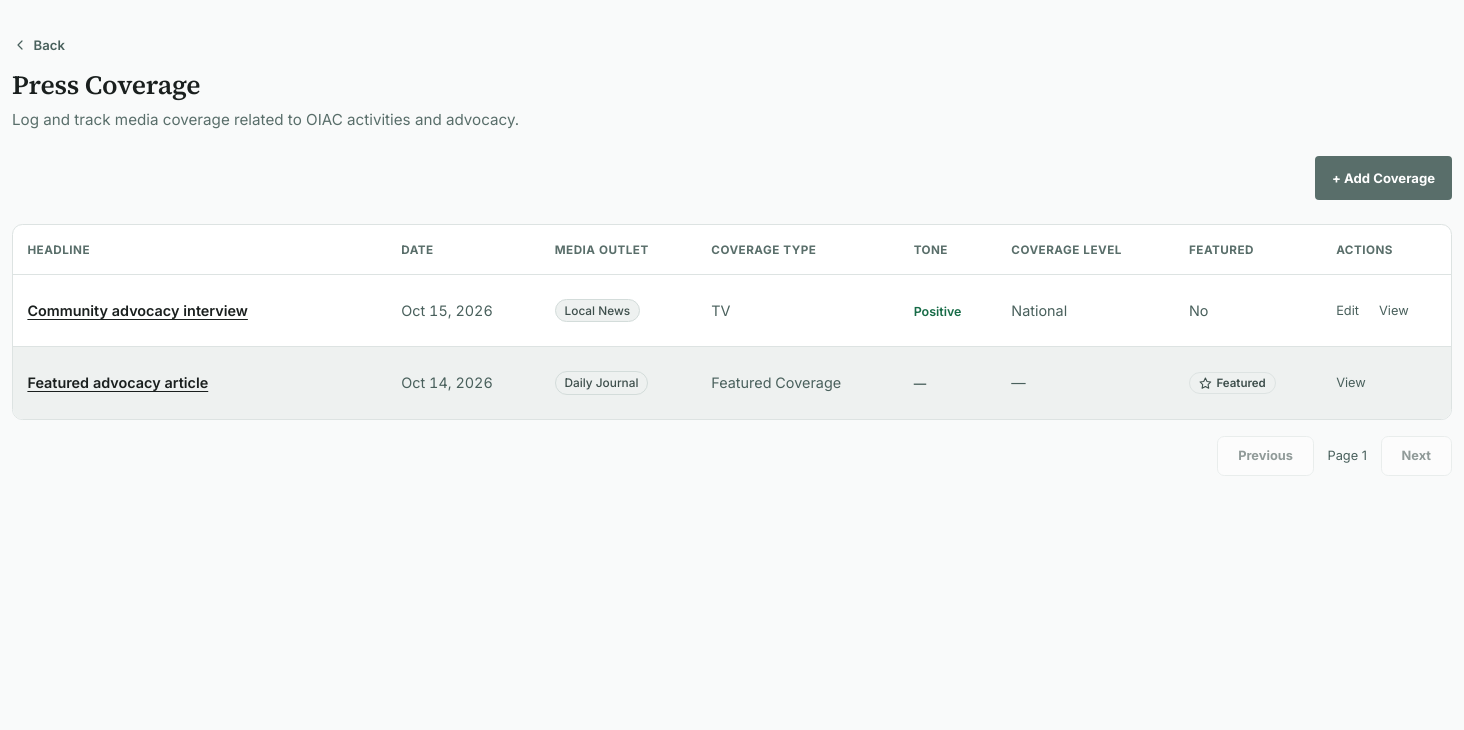
creates valid coverage and refreshes the server listing
Click the button "+ Add Coverage". click: (1384, 178)
box: [1315,156,1452,200]
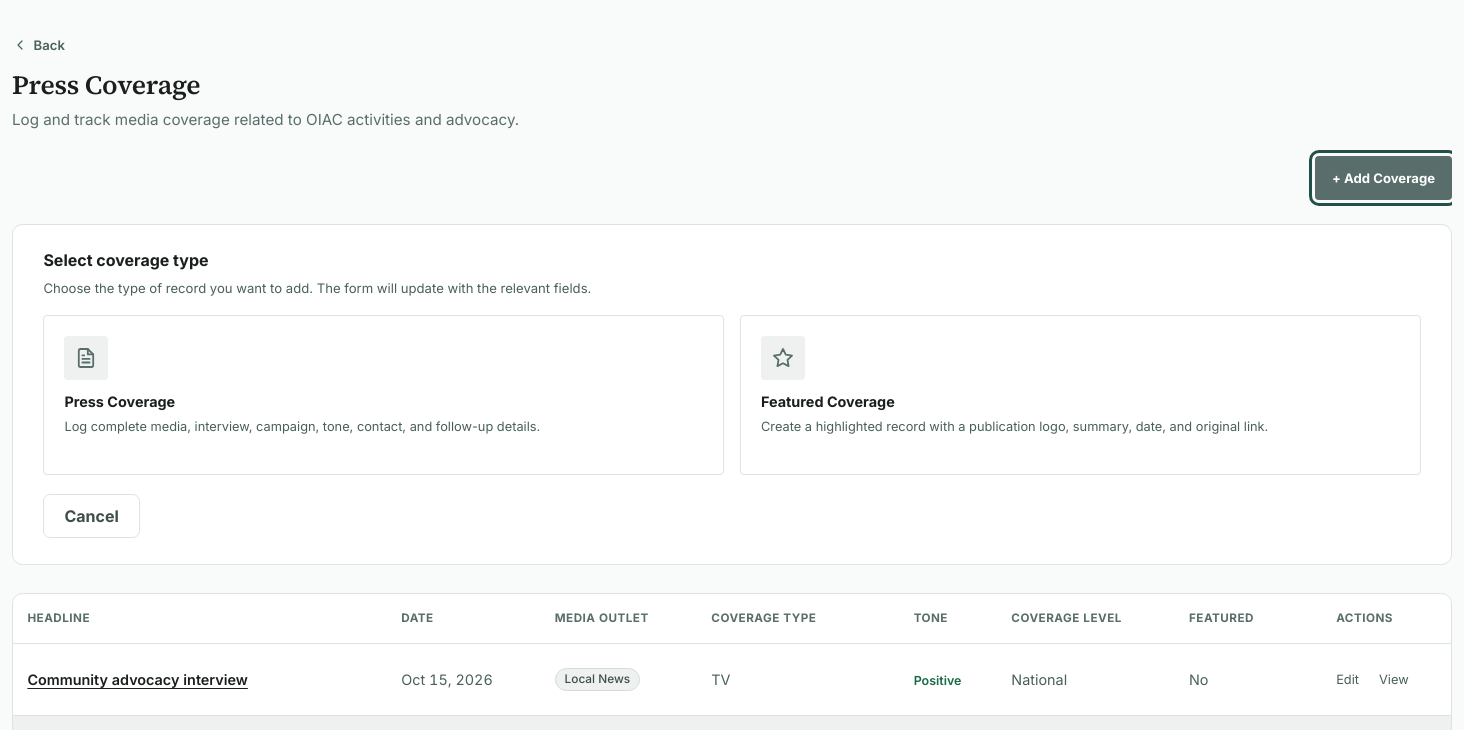
Click the button "Press Coverage Log complete media". click: (86, 358)
box: [43,315,724,475]
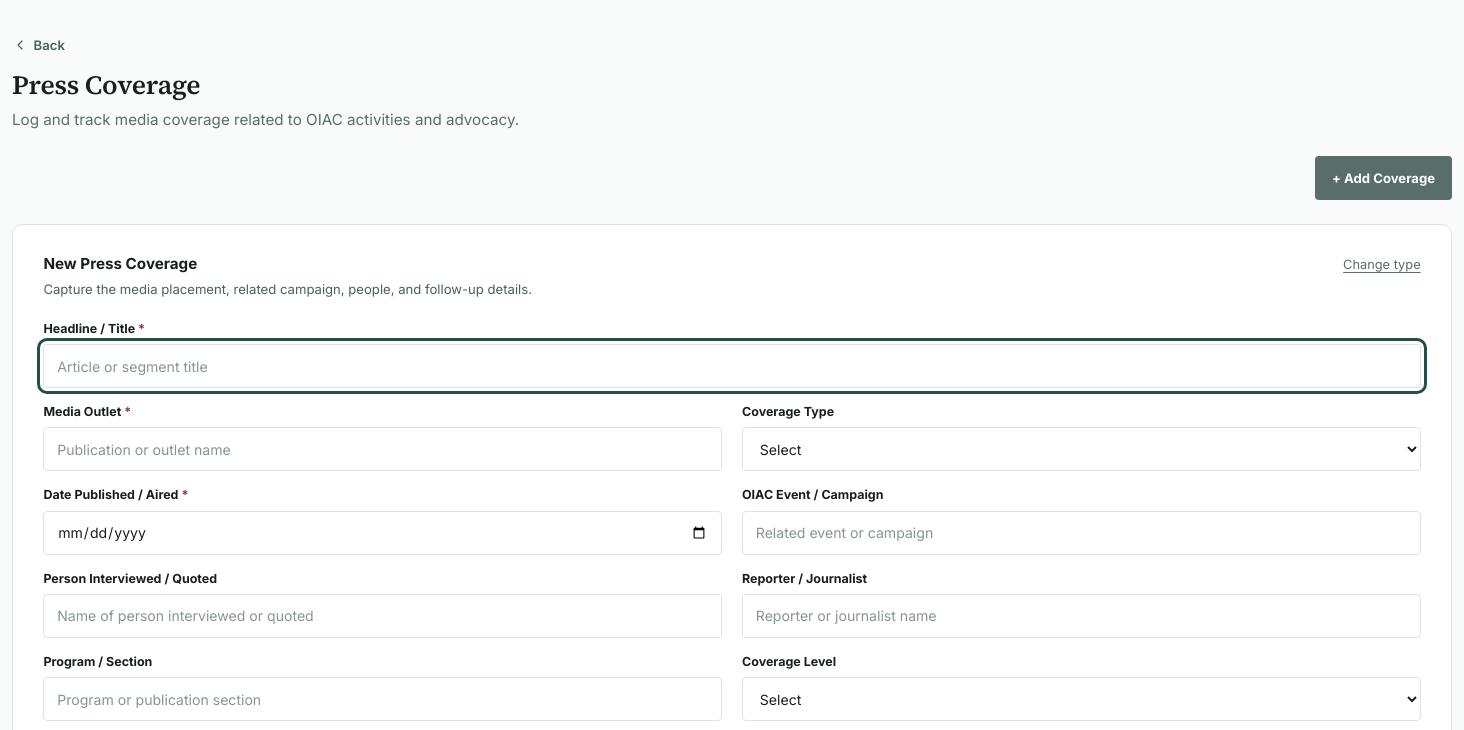
Type "New interview" into the field labelled "Headline / Title". click: (732, 366)
box: [43,344,1421,388]
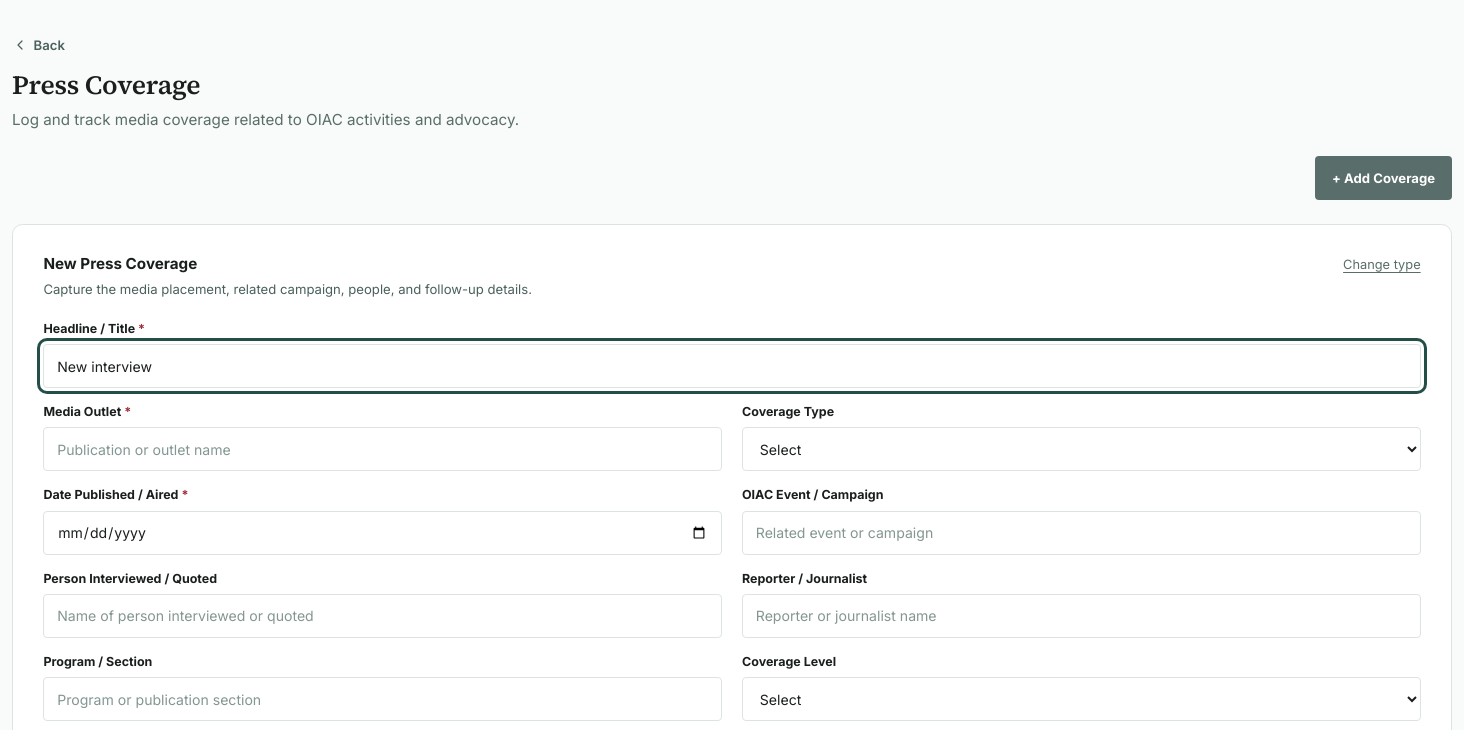
Type "Public Radio" into the field labelled "Media Outlet". click: (383, 449)
box: [43,427,722,471]
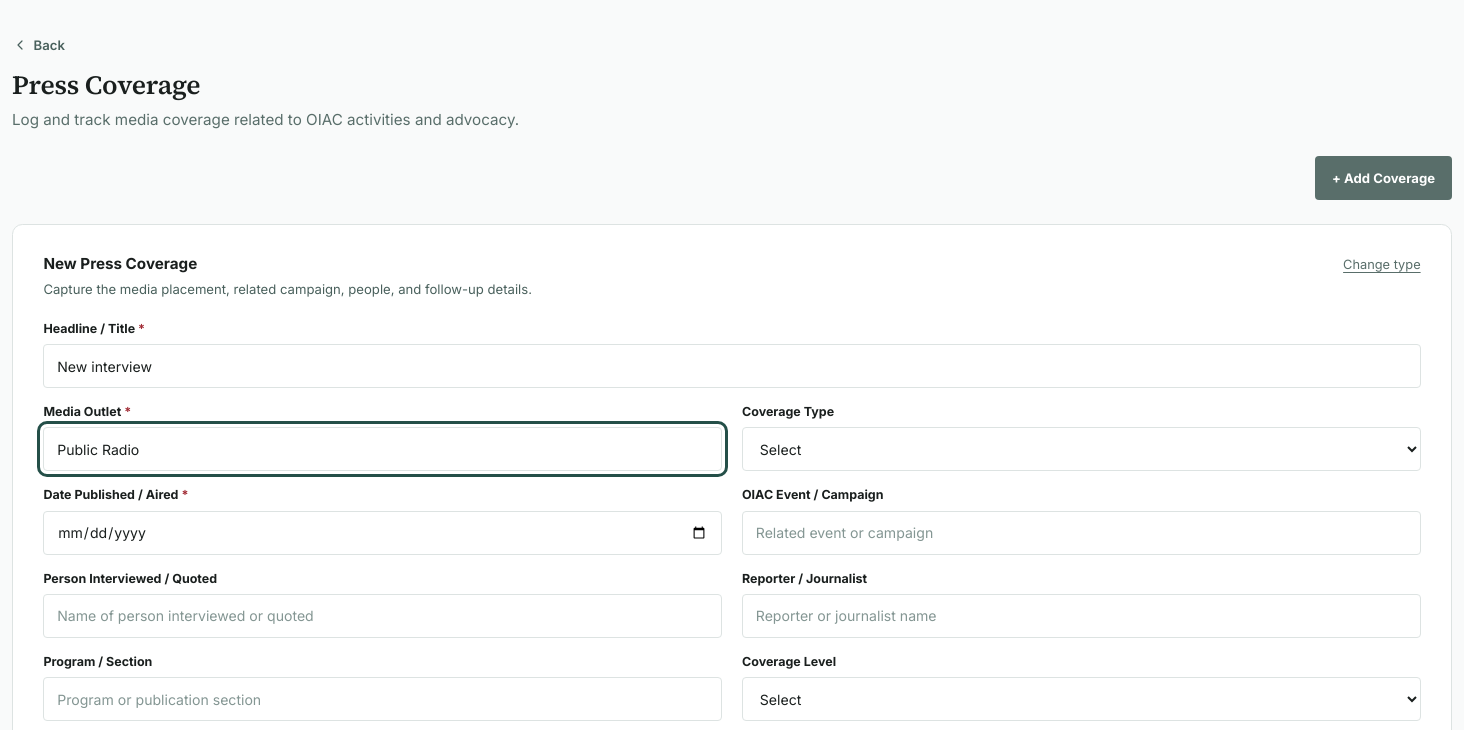
Type "2026-10-16" into the date field labelled "Date Published / Aired". click: (383, 533)
box: [43,511,722,555]
(page scrolled)
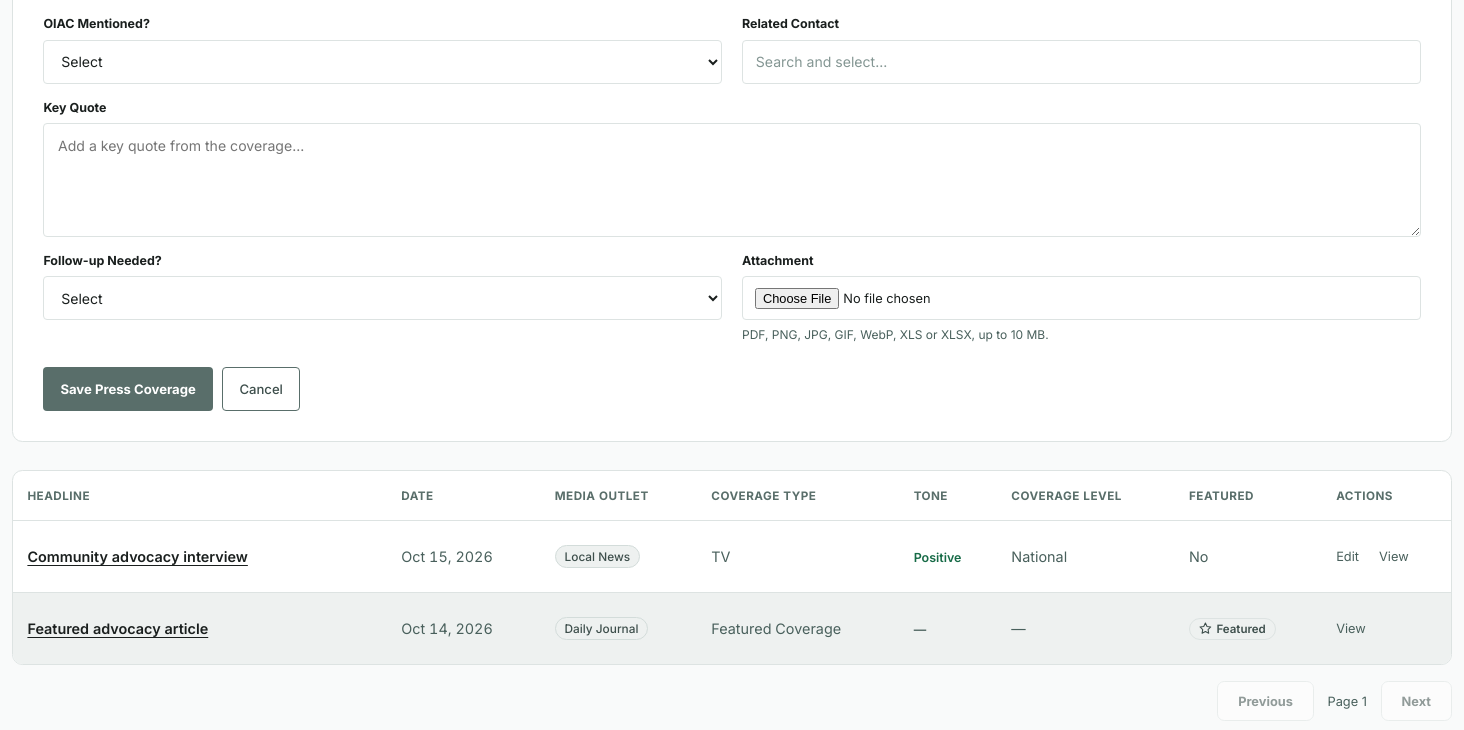
Click the button "Save Press Coverage". click: (128, 389)
box: [43,367,213,411]
(page scrolled)
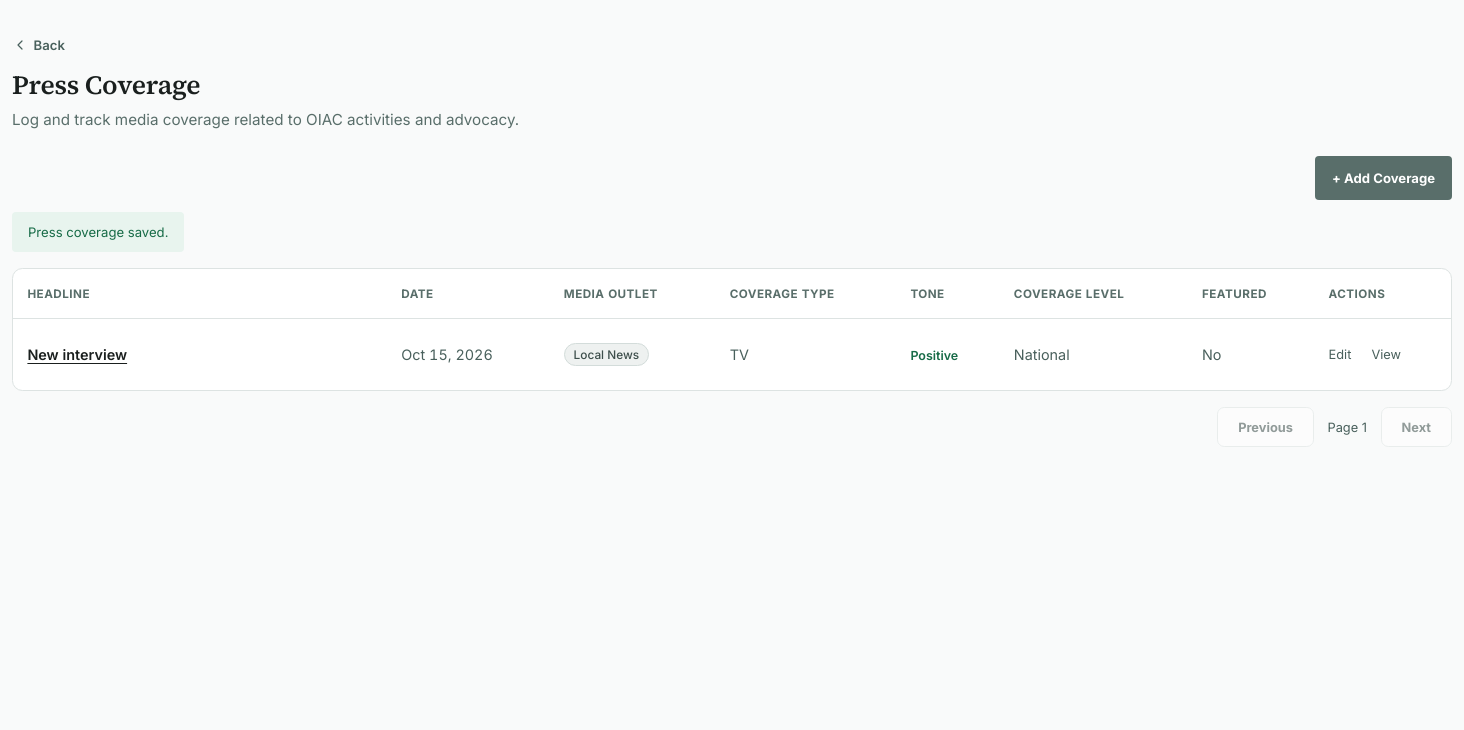
Check: the text "Press coverage saved." is shown, box [12,212,184,252]
Check: the column heading "New interview" is shown, box [13,319,387,390]
